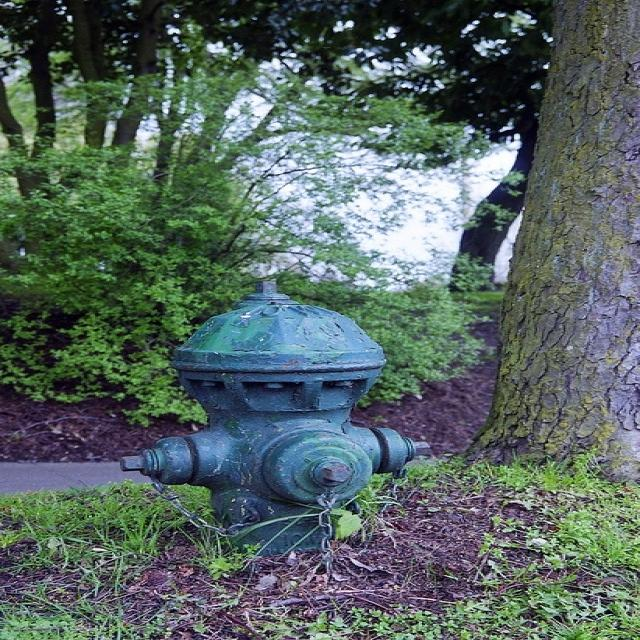fire_hydrant: (138, 233, 480, 611)
